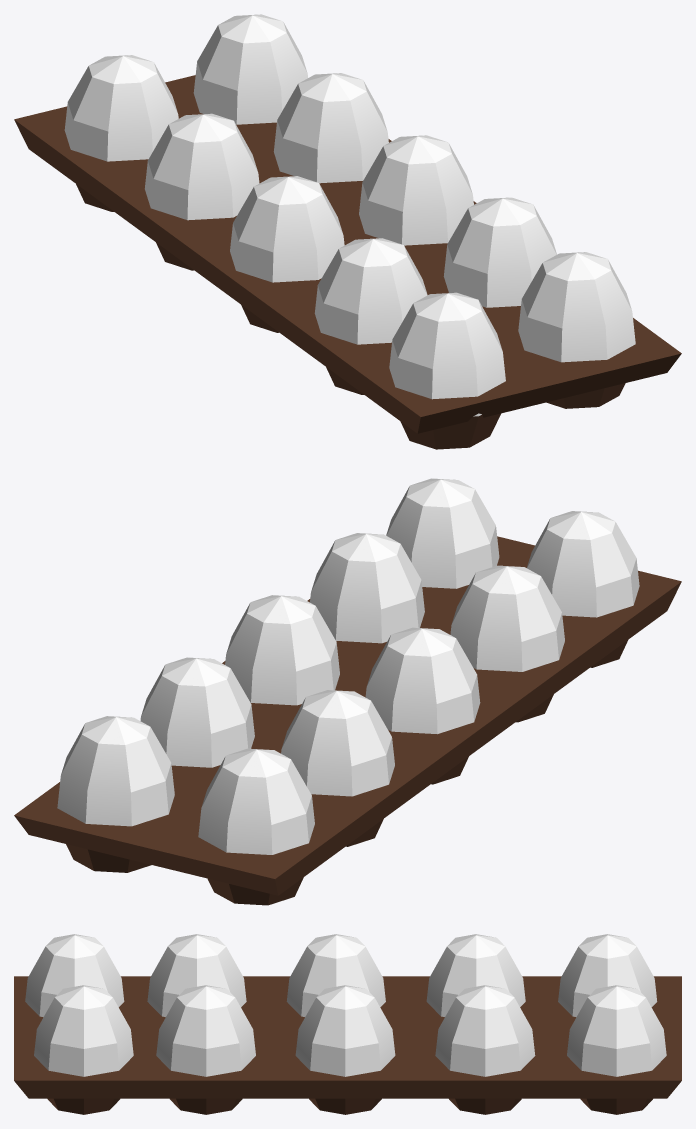
File: Eggs.fbx
3 renders of one model, top to bottom at view 1: azimuth 30°, elevation 25°; view 2: azimuth 150°, elevation 25°; view 3: azimuth 270°, elevation 25°, orthographic. The views are drawn at different scales.
Parts seen in each view (by area): view 1: Cube; view 2: Cube; view 3: Cube.
Boxes of the visible parts, left/top/right/bottom form: Cube: left=14, top=14, right=681, bottom=449; Cube: left=14, top=478, right=681, bottom=905; Cube: left=14, top=934, right=681, bottom=1114.
Bounding box in the file's own units: 495 × 287 × 1335.
Materials: 1 (1 with a texture image).
